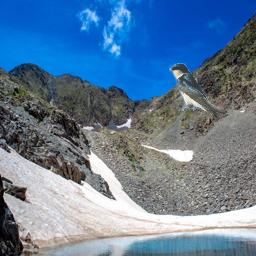Swallow: (169, 63, 226, 119)
